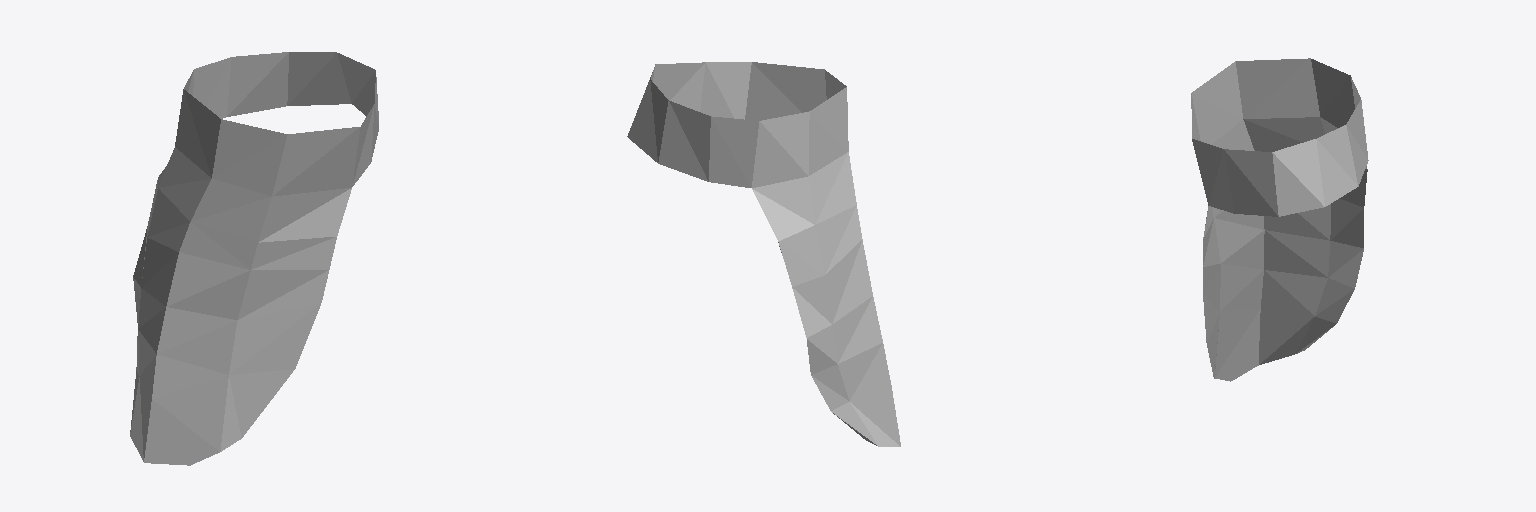
The model's file is cloth_down_low.obj.
3 renders of one model, left to right at view 1: azimuth 30°, elevation 25°; view 2: azimuth 150°, elevation 25°; view 3: azimuth 270°, elevation 25°, orthographic.
Visible parts, largest first — view 1: polySurface468 polySurface462; view 2: polySurface468 polySurface462; view 3: polySurface468 polySurface462.
Part boxes in pixels (bbox=[...]): polySurface468 polySurface462: bbox=[130, 52, 378, 465]; polySurface468 polySurface462: bbox=[627, 62, 900, 446]; polySurface468 polySurface462: bbox=[1191, 58, 1368, 381].
Size of the model in its own units: 34.75 by 45.92 by 21.72.